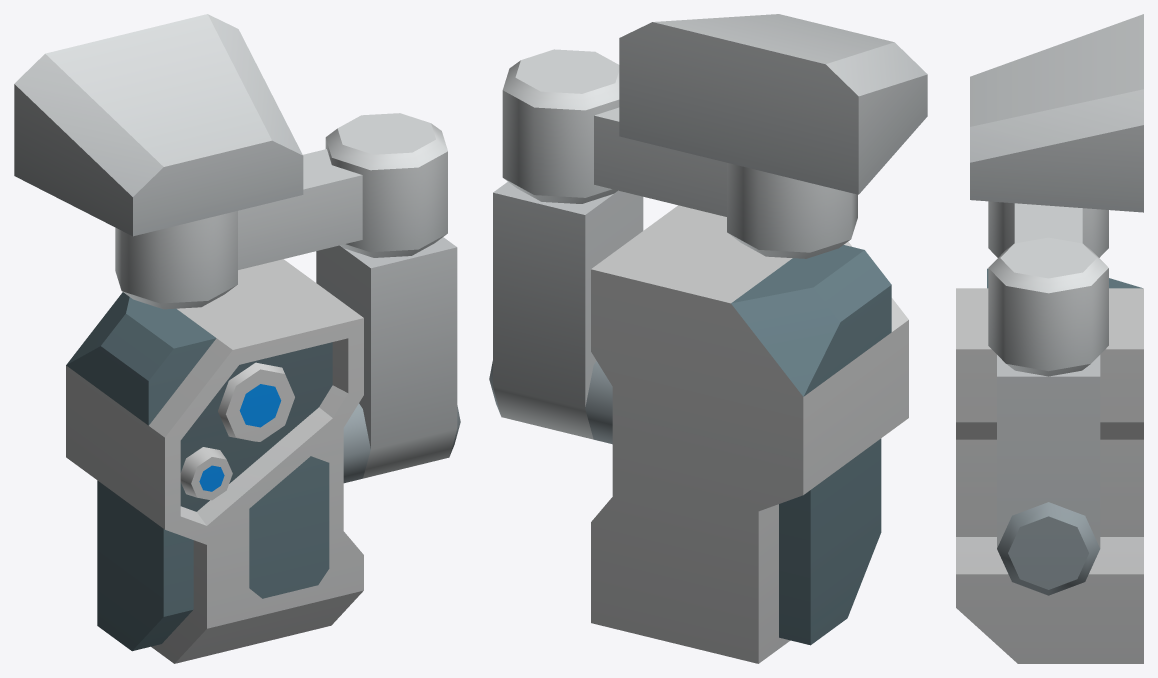
The model's file is Security_cam_002.glb.
3 renders of one model, left to right at view 1: azimuth 30°, elevation 25°; view 2: azimuth 150°, elevation 25°; view 3: azimuth 270°, elevation 25°, orthographic. The views are drawn at different scales.
Visible parts, largest first — view 1: Cam_002, Security_cam_002, Support_002; view 2: Cam_002, Security_cam_002, Support_002; view 3: Cam_002, Security_cam_002, Support_002.
Boxes of the visible parts, x1,y1,x2,y2 form: Cam_002: (66, 237, 460, 663); Security_cam_002: (14, 14, 303, 236); Support_002: (115, 113, 447, 309); Cam_002: (489, 182, 908, 663); Security_cam_002: (619, 14, 927, 194); Support_002: (502, 49, 857, 258); Cam_002: (956, 268, 1143, 663); Security_cam_002: (970, 14, 1143, 212); Support_002: (988, 201, 1108, 376).
Bounding box in the file's own units: 0.4374 × 0.6392 × 0.1984.
Materials: 2 (2 with a texture image).
